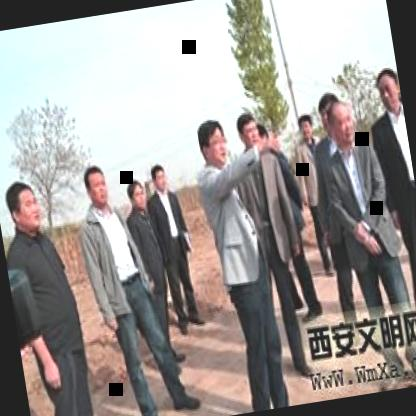head: (0, 171, 48, 241), (191, 113, 232, 171), (370, 61, 404, 115), (78, 159, 112, 211), (326, 96, 358, 150), (232, 106, 264, 154), (122, 176, 148, 214), (148, 157, 172, 194), (296, 110, 316, 142)
